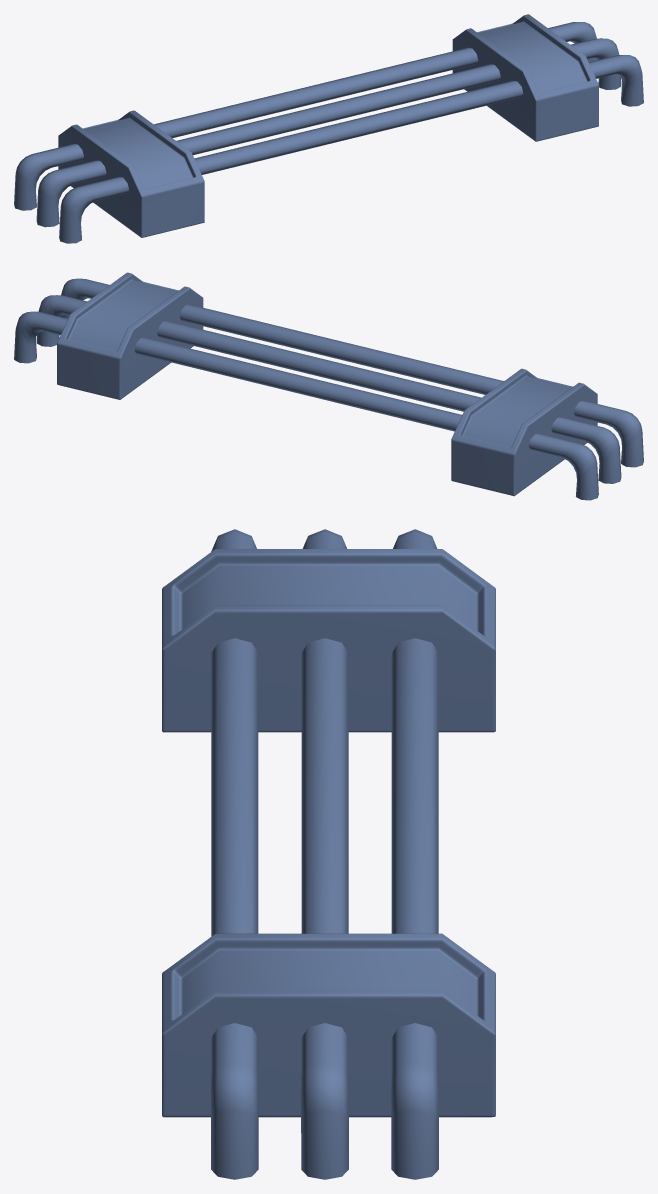
Rendered from Pipes_Rectos.fbx.
3 views of the same model, one above another, from view 1: azimuth 30°, elevation 25°; view 2: azimuth 150°, elevation 25°; view 3: azimuth 270°, elevation 25° (orthographic). The views are drawn at different scales.
Parts seen in each view (by area): view 1: Pipes_Rectos; view 2: Pipes_Rectos; view 3: Pipes_Rectos.
Boxes of the visible parts, x1,y1,x2,y2 form: Pipes_Rectos: (14, 14, 643, 243); Pipes_Rectos: (14, 272, 643, 500); Pipes_Rectos: (162, 529, 495, 1179).
Bounding box in the file's own units: 746 × 76.24 × 185.
